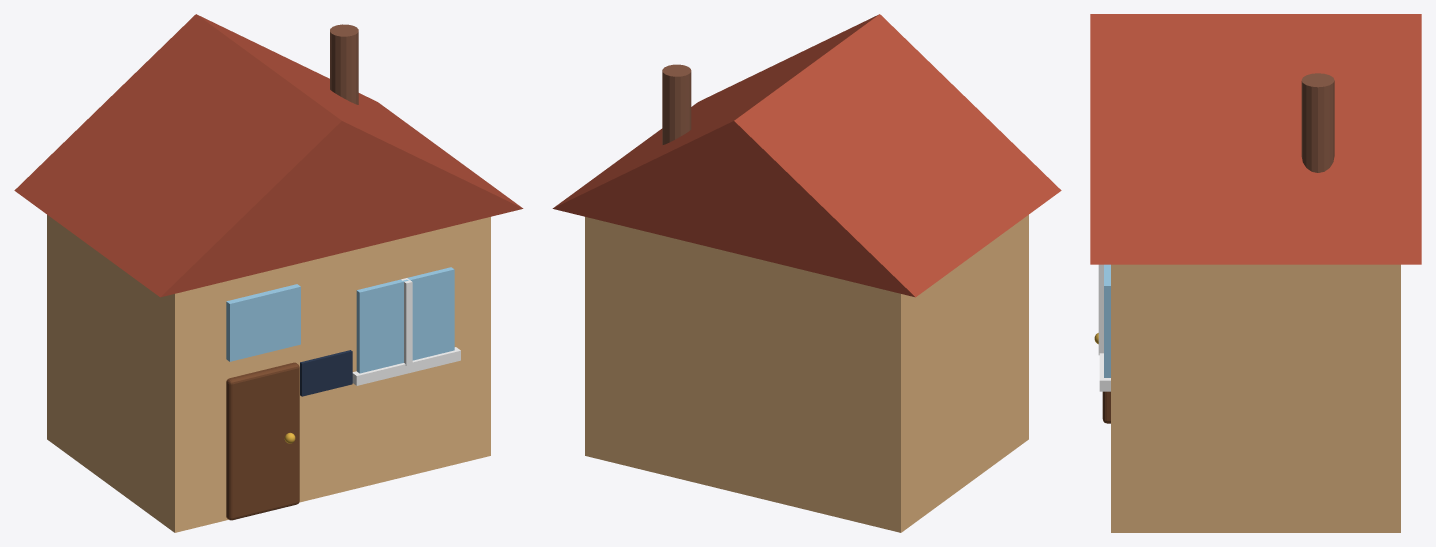
The model's file is casa.glb.
3 renders of one model, left to right at view 1: azimuth 30°, elevation 25°; view 2: azimuth 150°, elevation 25°; view 3: azimuth 270°, elevation 25°, orthographic. The views are drawn at different scales.
Parts seen in each view (by area): view 1: Cube, techo, Cube.001, Cube.002, Cube.005, Cylinder, numero, Cube.003, Cube.004; view 2: Cube, techo, Cylinder; view 3: techo, Cube, Cylinder, Cube.002, Cube.004.
Boxes of the visible parts, <box> form: Cube: <box>47,215,490,532</box>; techo: <box>14,14,523,297</box>; Cube.001: <box>226,362,299,520</box>; Cube.002: <box>356,267,454,373</box>; Cube.005: <box>226,284,300,361</box>; Cylinder: <box>330,24,358,104</box>; numero: <box>300,350,352,396</box>; Cube.003: <box>352,347,460,385</box>; Cube.004: <box>401,278,412,365</box>; Cube: <box>585,215,1028,532</box>; techo: <box>552,14,1061,297</box>; Cylinder: <box>662,64,691,144</box>; techo: <box>1090,14,1421,264</box>; Cube: <box>1111,264,1400,532</box>; Cylinder: <box>1301,73,1334,172</box>; Cube.002: <box>1104,264,1110,377</box>; Cube.004: <box>1098,264,1103,355</box>.
Bounding box in the file's own units: 2.3 × 2.3 × 1.6.
